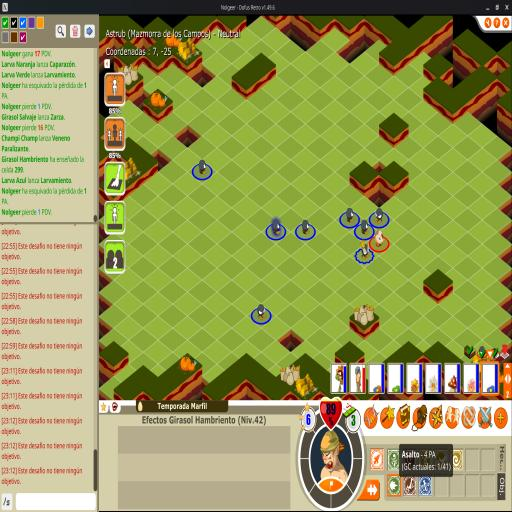Enemigos: (360, 237, 370, 259), (360, 219, 370, 235), (257, 304, 267, 320), (198, 159, 208, 175), (375, 207, 384, 224), (346, 206, 355, 222), (272, 219, 281, 235), (302, 219, 310, 235)
Personaje: (374, 229, 385, 247)
